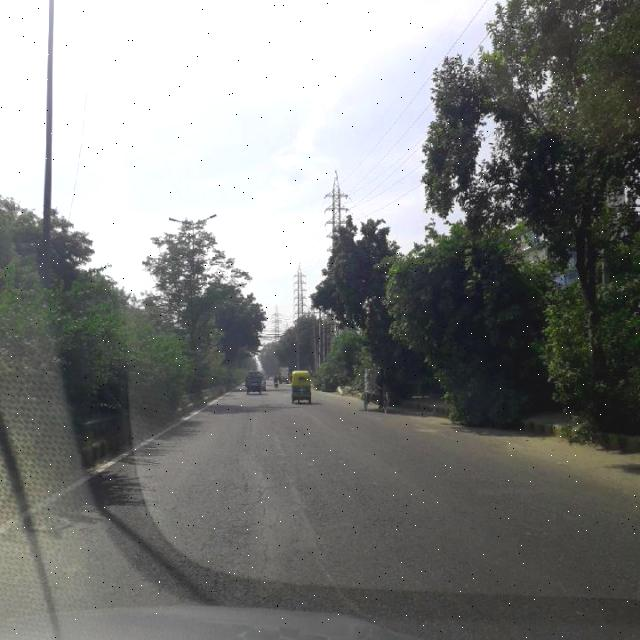D20: (136, 463, 295, 604)
